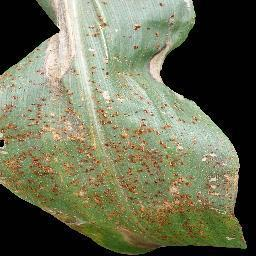Corn_Common_Rust: (1, 94, 247, 255), (1, 0, 202, 94)
